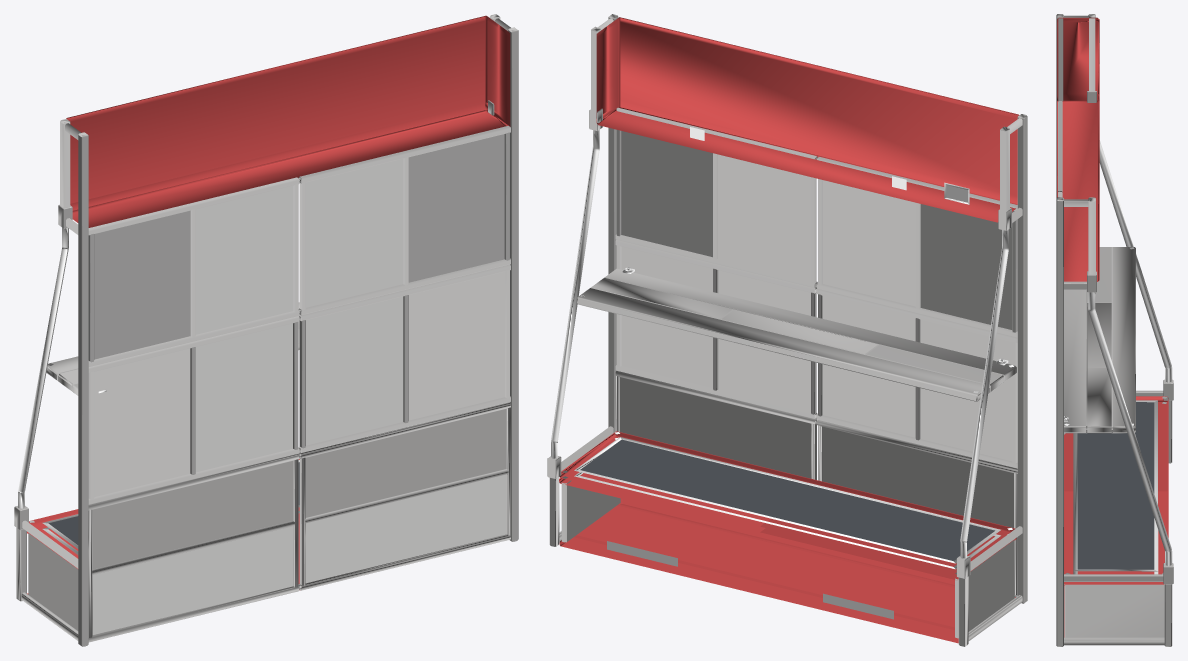
Rendered from rack_clothing_2_04x01x045_d.glb.
The picture shows the model from 3 angles, left to right: view 1: azimuth 30°, elevation 25°; view 2: azimuth 150°, elevation 25°; view 3: azimuth 270°, elevation 25°; orthographic projection. The views are drawn at different scales.
Size of the model in its own units: 3.08 by 3.42 by 0.8127.
